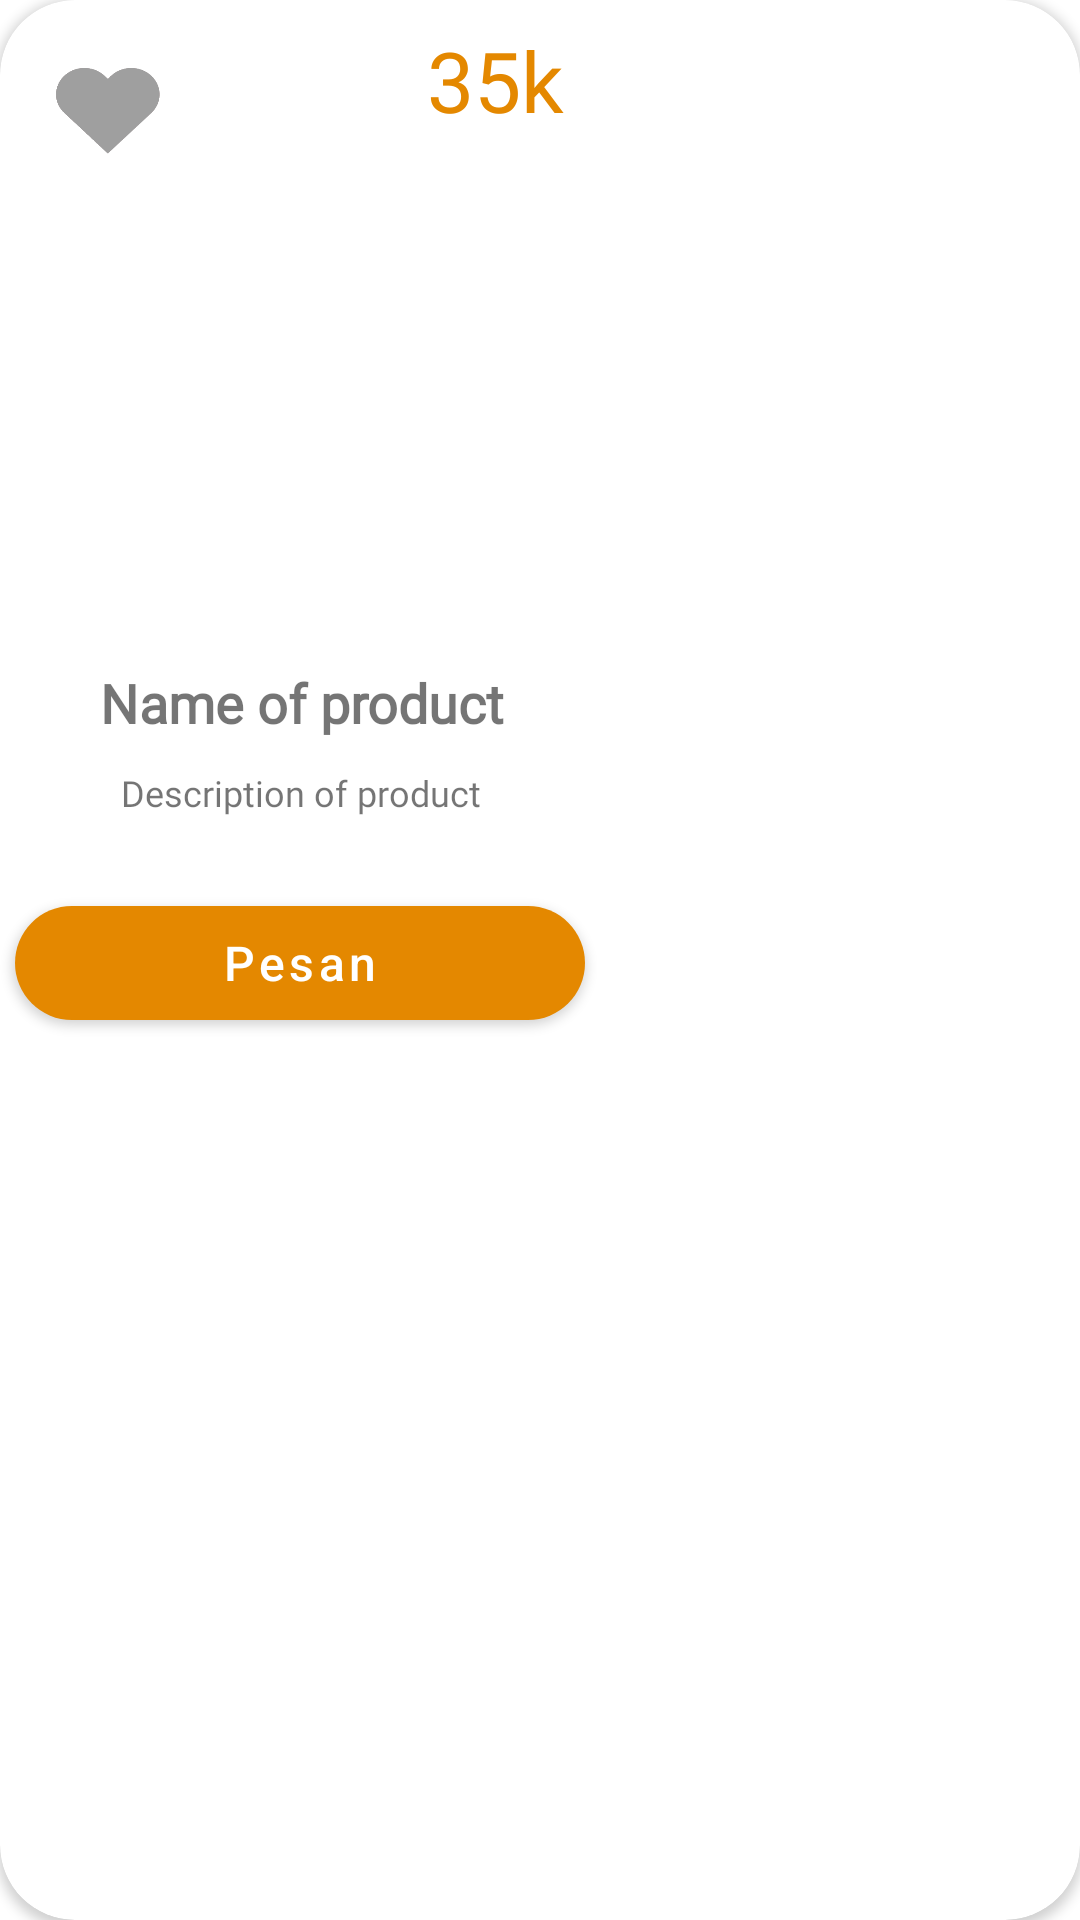

Named icons in this screenshot (1080 x 1920) and their centers, (x,y):
like off: (108,110)
